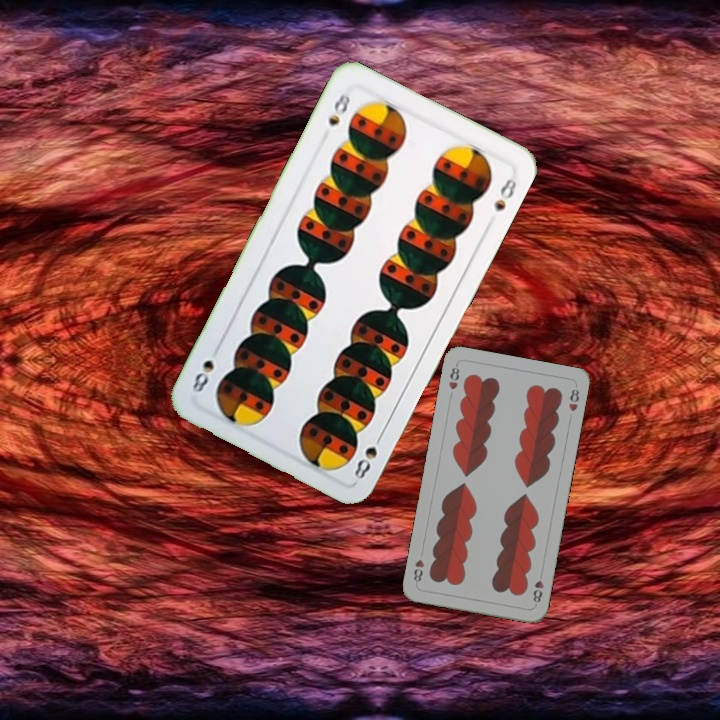H8: (444, 360, 462, 392), (529, 576, 546, 605)
S8: (350, 426, 387, 482), (324, 88, 353, 129)
